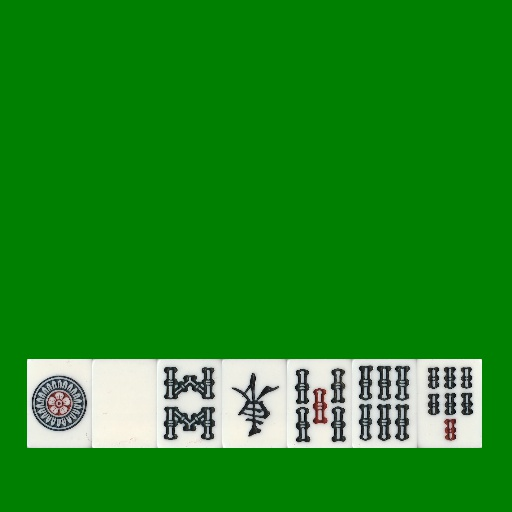1p: (27, 359, 92, 448)
5s: (287, 359, 352, 448)
6s: (352, 359, 417, 448)
7s: (417, 359, 482, 448)
8s: (157, 359, 222, 448)
east: (222, 359, 287, 448)
white: (92, 359, 157, 448)
